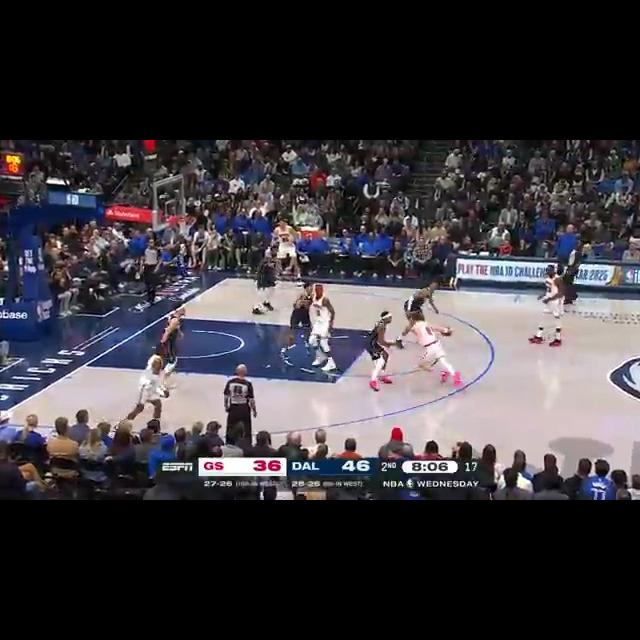Team-1-Player: (359, 310, 405, 396), (278, 280, 320, 358), (151, 300, 195, 362), (245, 245, 283, 315), (400, 277, 448, 313)
Team-2-Player: (404, 314, 464, 391), (527, 264, 571, 352), (124, 343, 166, 422), (308, 280, 339, 372), (270, 220, 306, 282)
